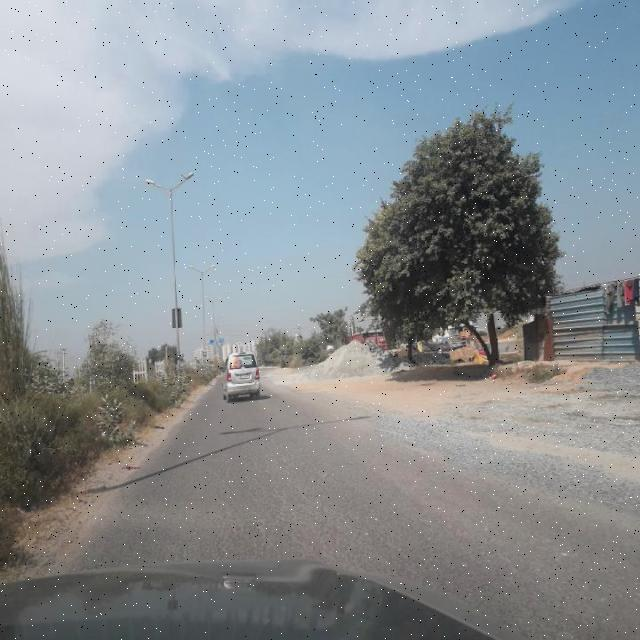D20: (73, 446, 501, 566)
